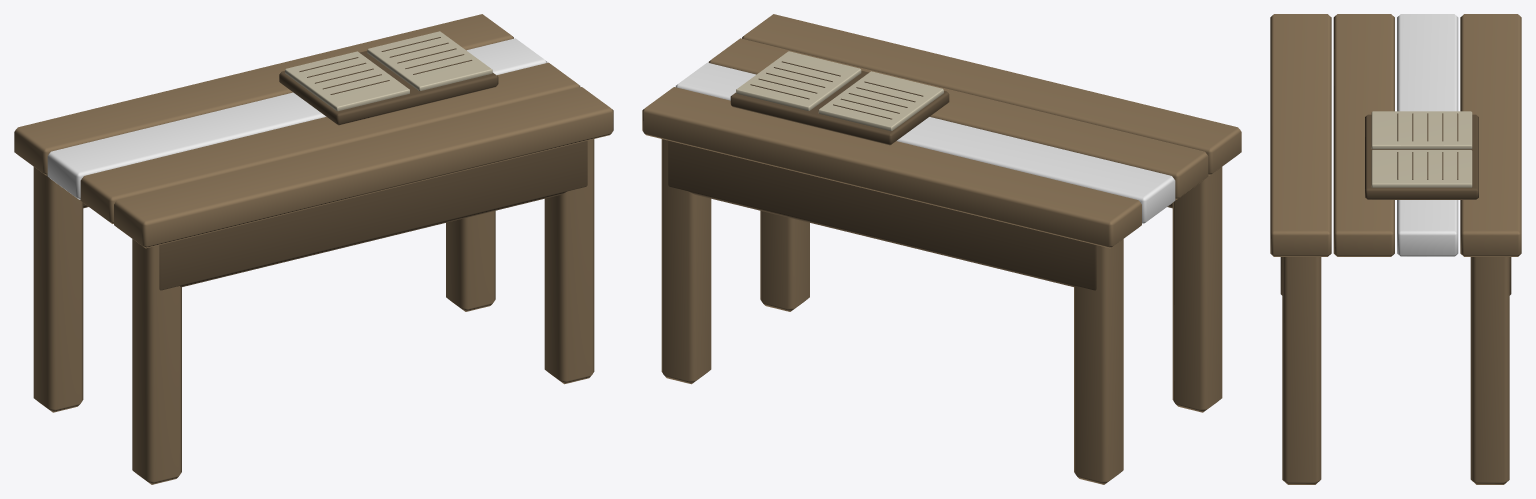
Rendered from AntiqueDesk62.fbx.
3 renders of one model, left to right at view 1: azimuth 30°, elevation 25°; view 2: azimuth 150°, elevation 25°; view 3: azimuth 270°, elevation 25°, orthographic. The views are drawn at different scales.
Parts seen in each view (by area): view 1: AntiqueDesk62; view 2: AntiqueDesk62; view 3: AntiqueDesk62.
Boxes of the visible parts, <box> form: AntiqueDesk62: <box>14,14,613,484</box>; AntiqueDesk62: <box>642,14,1241,484</box>; AntiqueDesk62: <box>1270,14,1521,484</box>.
Bounding box in the file's own units: 160 × 94.3 × 77.4.
